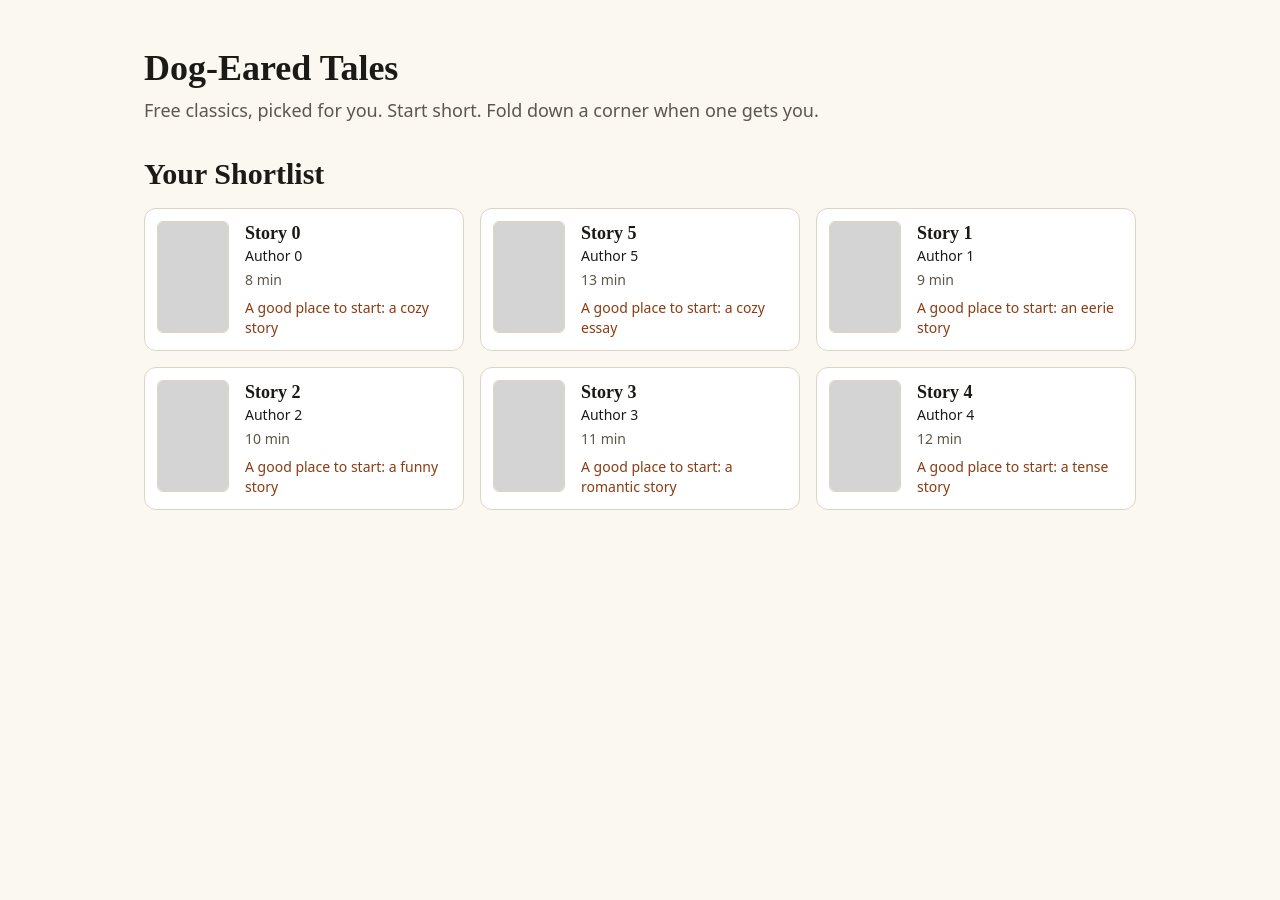
Scenario: detail sheet › opens on a tap, records a tap event, and shows everything including content notes
Click the button "Story 0 Author 0 8 min A good place to start: a cozy story" at [193, 277], box left=144, top=208, right=464, bottom=351
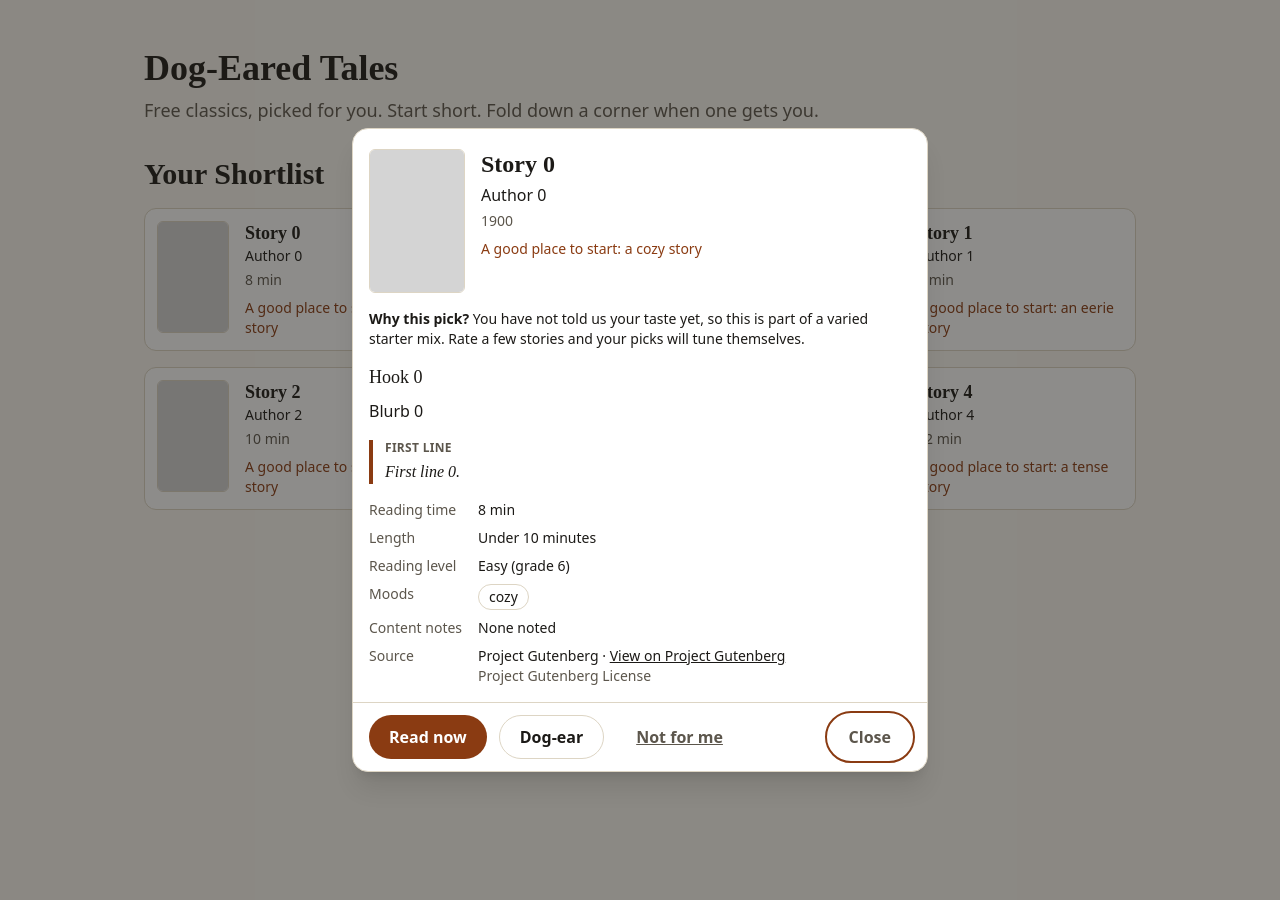
Press Escape
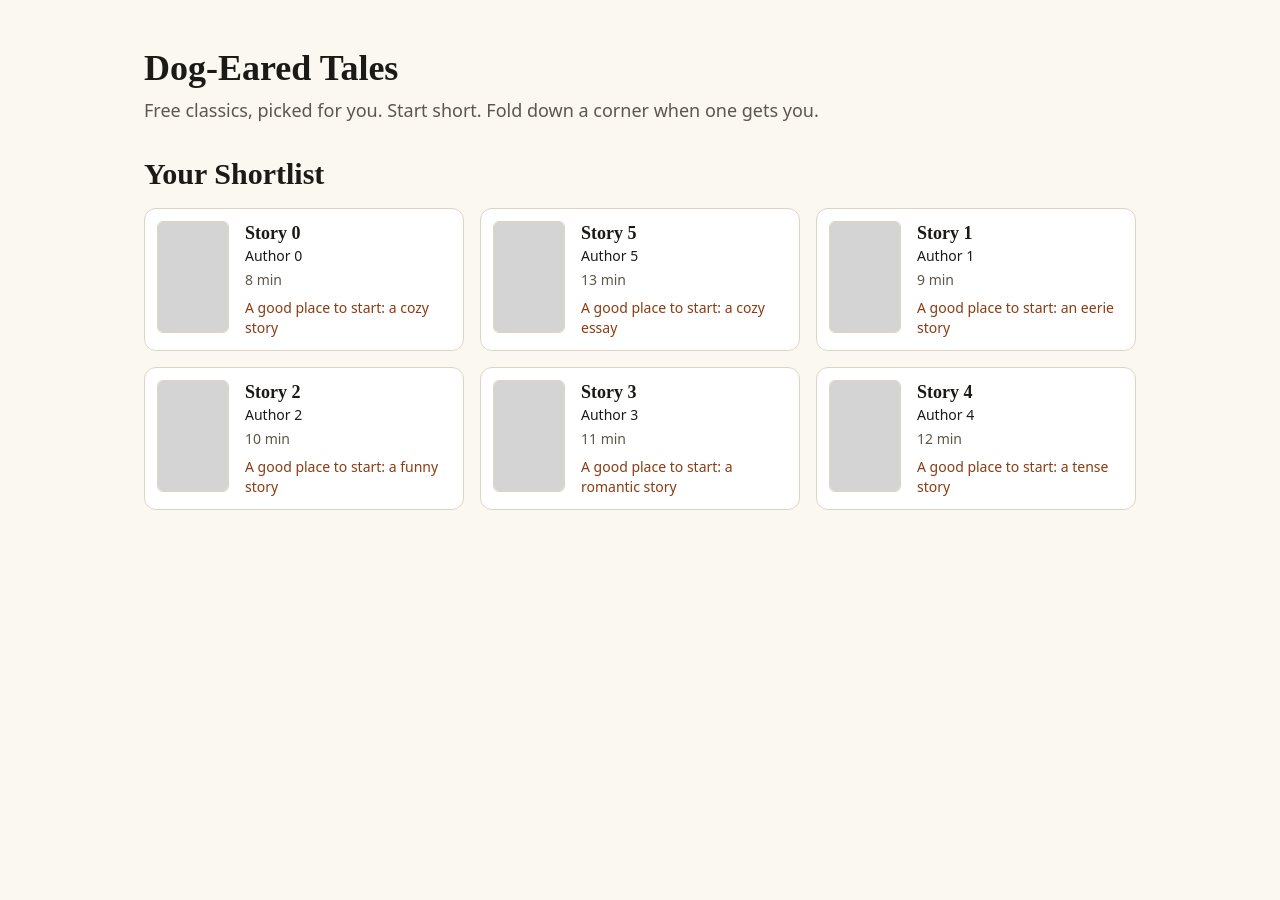
Expected: the dialog is gone
